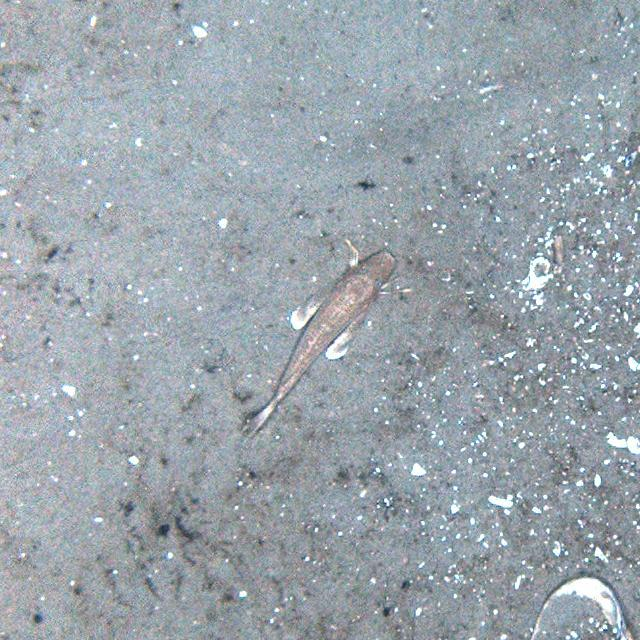roundfish: (221, 237, 405, 434)
